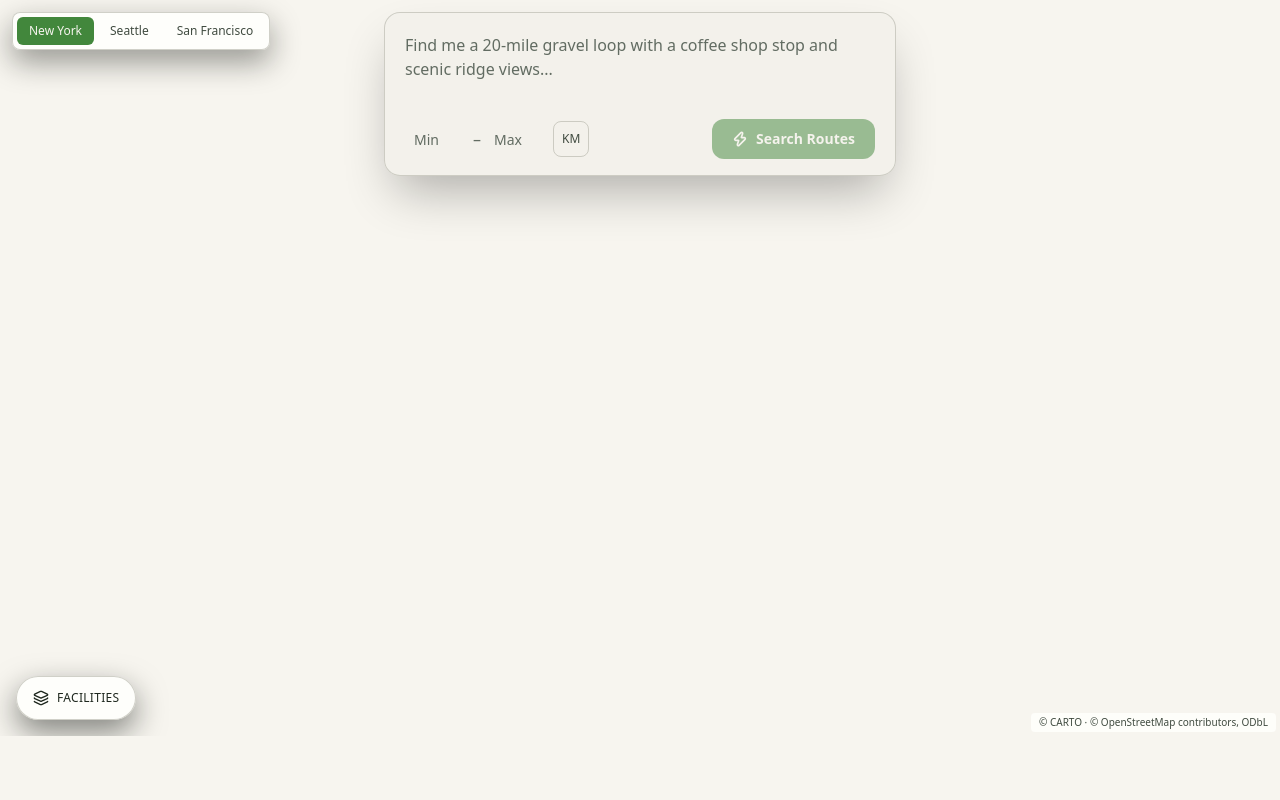
Test: MapExplorer — map-tab search › opens the panel (skeleton) while loading — before any results exist
Replace the text in the text box with "aqueduct". click: (640, 65)
box: [389,17,891,113]
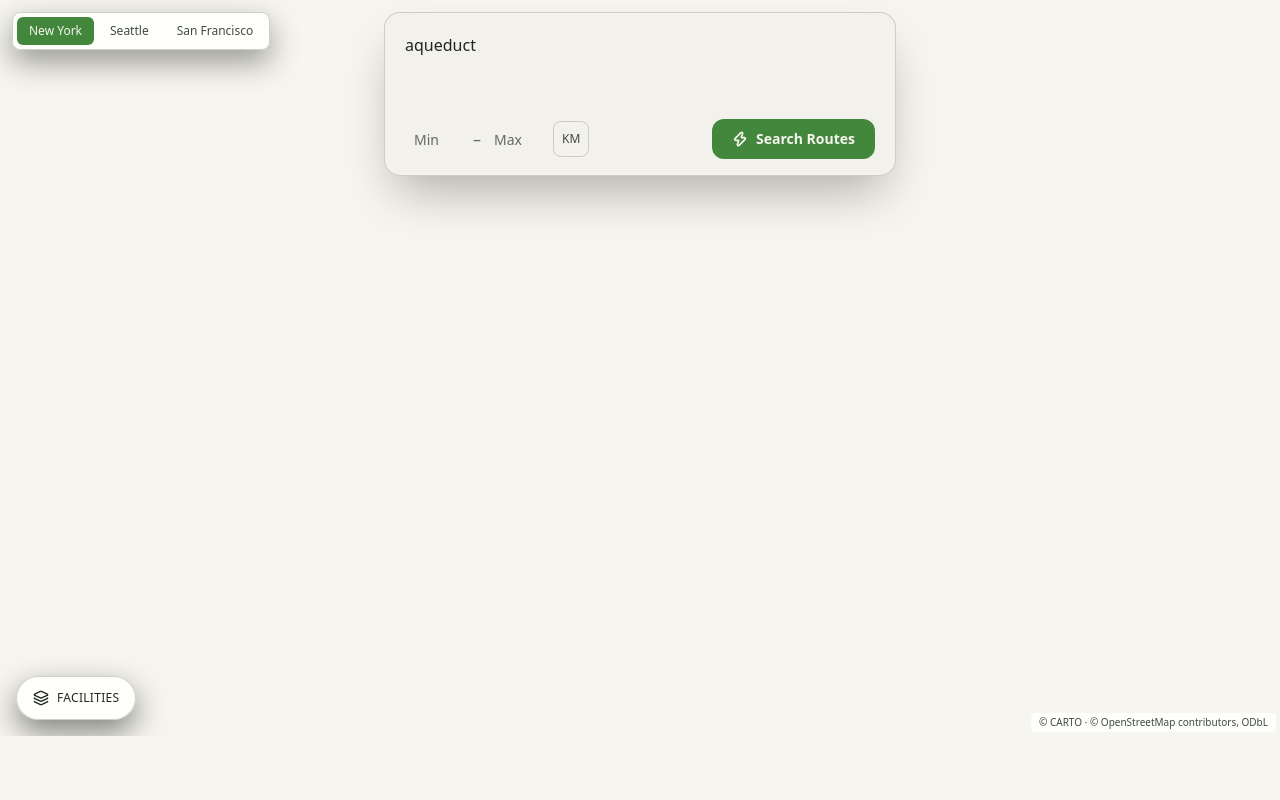
Click the button "Search Routes". click: (794, 139)
box: [712,119,875,159]
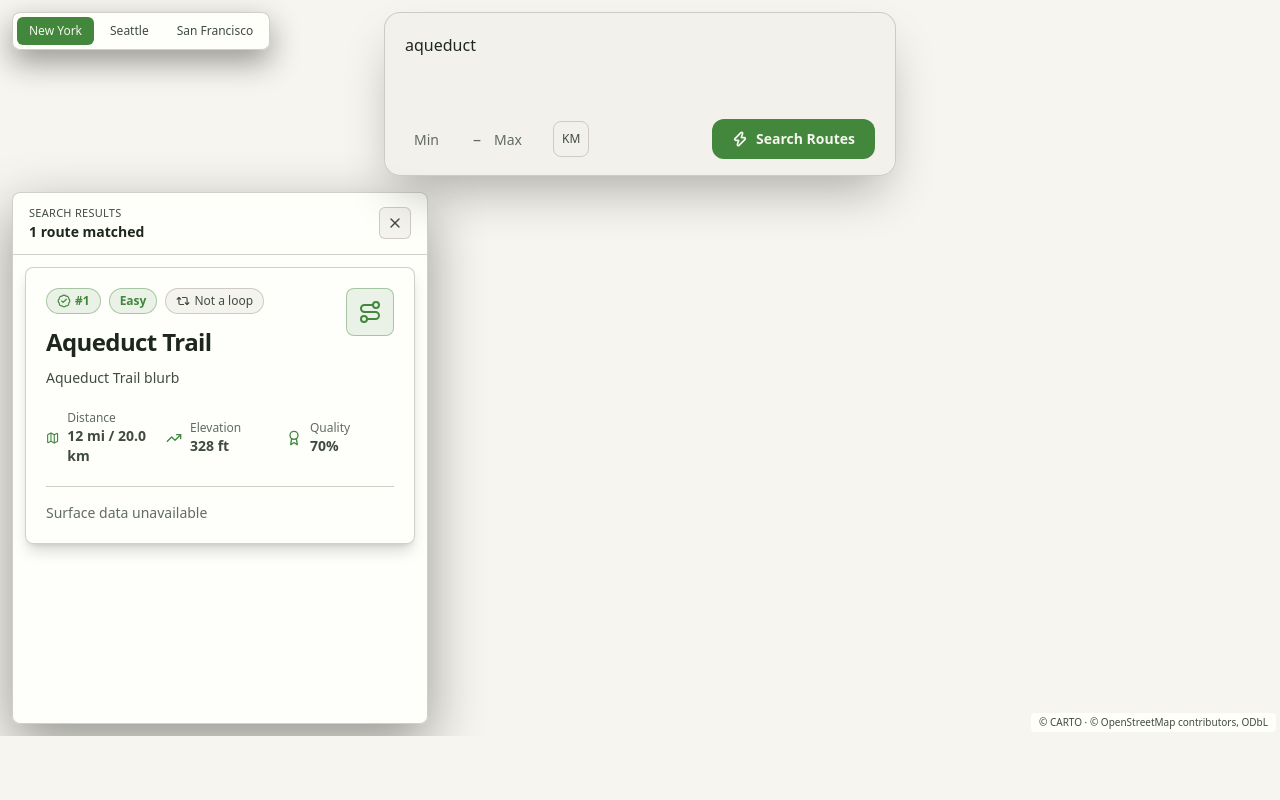
Expected: the text "Searching…" is shown, [29,222,144,242]
